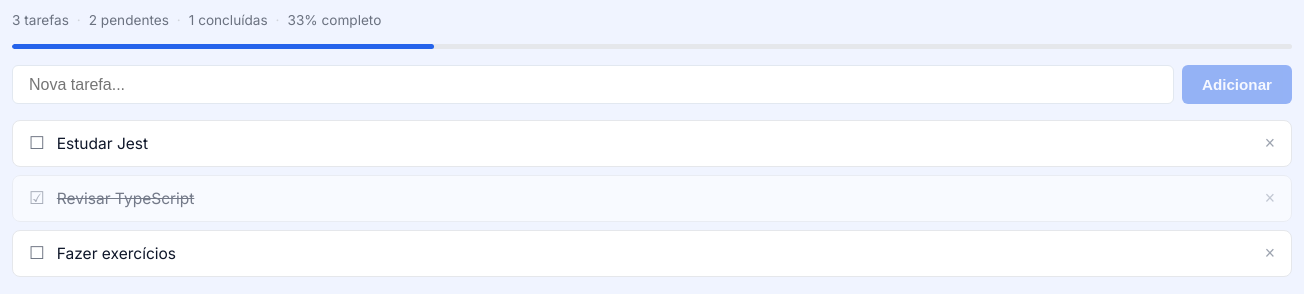
ListaDeTarefas — alternar status › atualiza o contador ao marcar tarefa como concluída
Note: Tarefa 1 está pendente — marca como concluída
Click the button with test id "check-1" at (37, 144), box [29, 133, 45, 154]
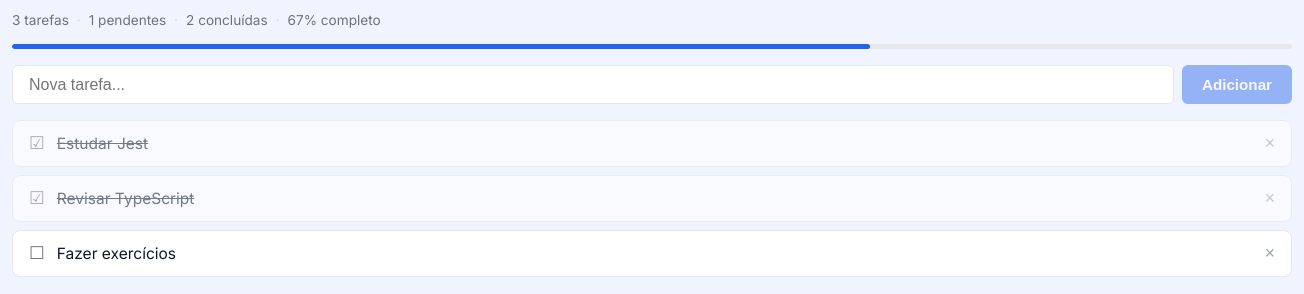
Result: the text with test id "concluidas" reads "2 concluídas" at [186, 12, 268, 28]
Result: the text with test id "pendentes" reads "1 pendentes" at [89, 12, 166, 28]
